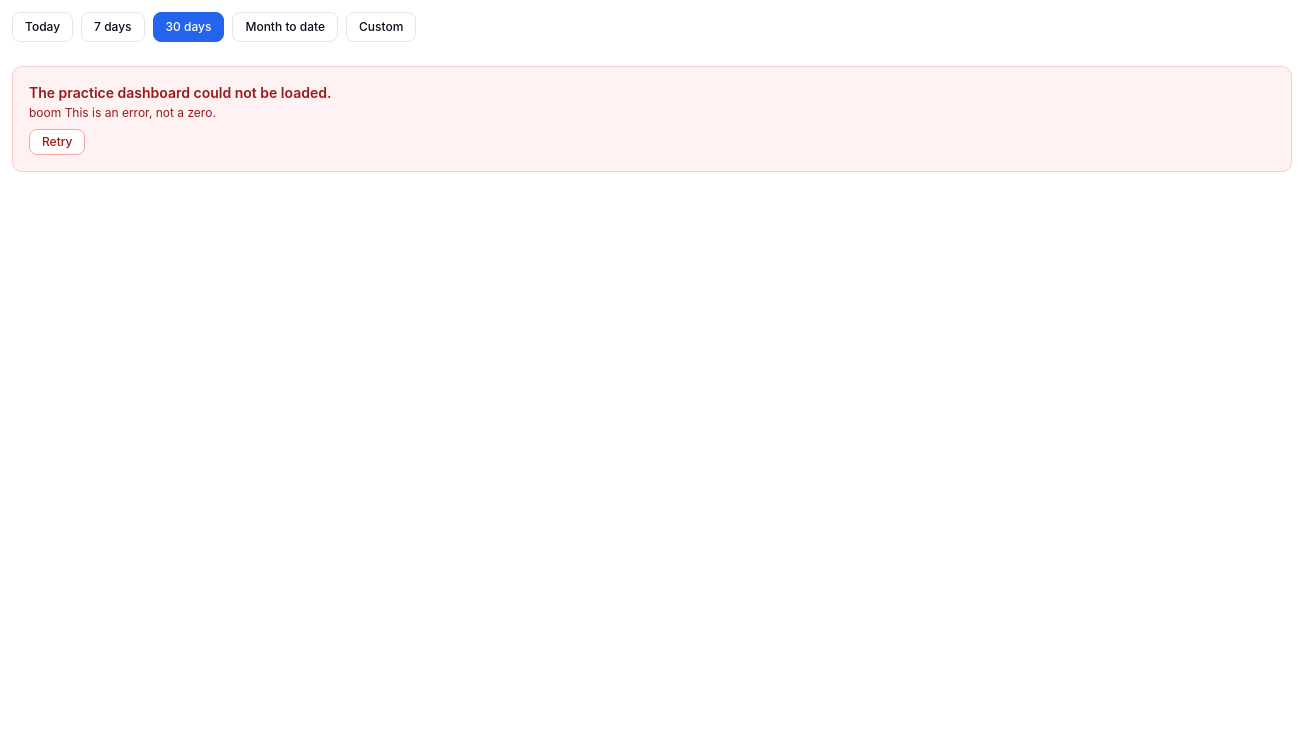
Scenario: PracticeDashboard › the whole read failing: an error with Retry, no zeros; Retry re-reads
What coordinates should you click on to do the following:
click the button "Retry"
I would click on:
 (57, 142)
Its box is [29,129,86,155].
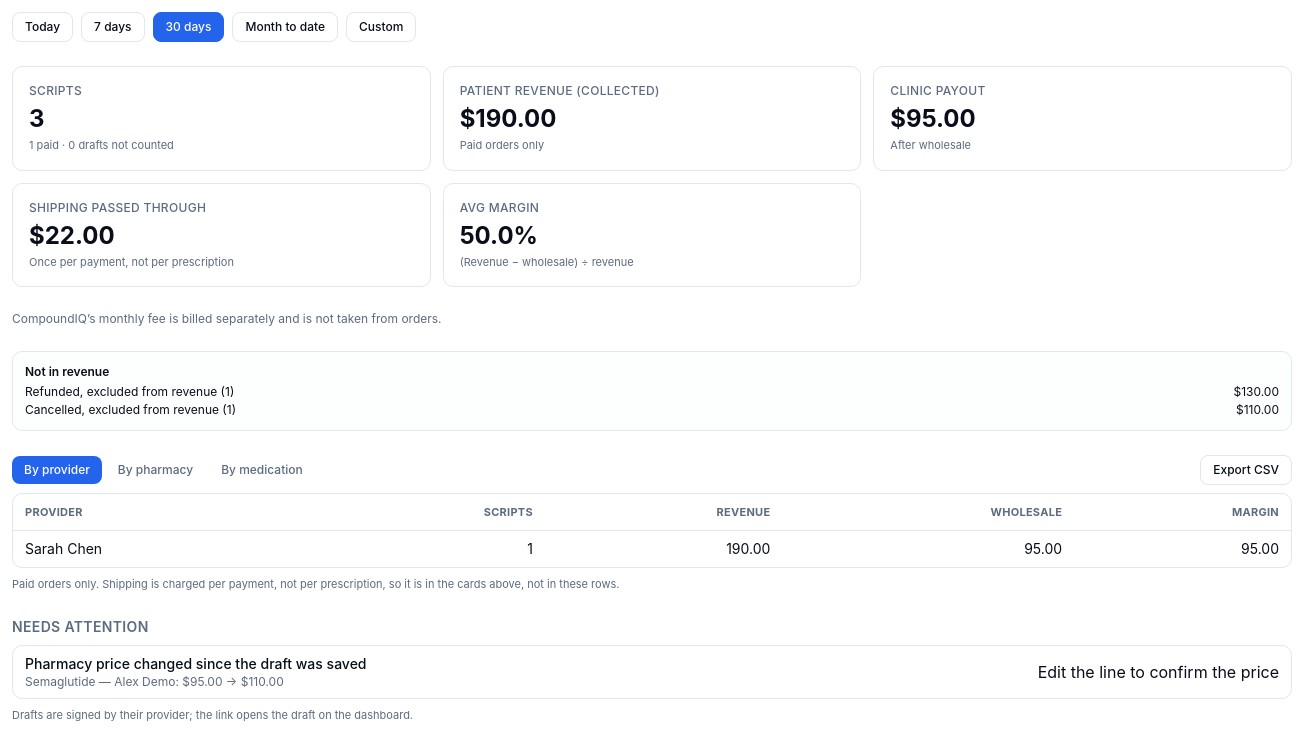
Check: the text with test id "practice-revenue" reads "$190.00", box [460,104,556,133]
